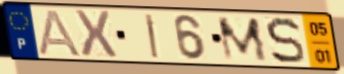6: (172, 13, 208, 62)
A: (37, 8, 84, 58)
I: (143, 12, 161, 60)
M: (214, 16, 270, 63)
S: (264, 15, 308, 66)
X: (72, 8, 120, 59)
